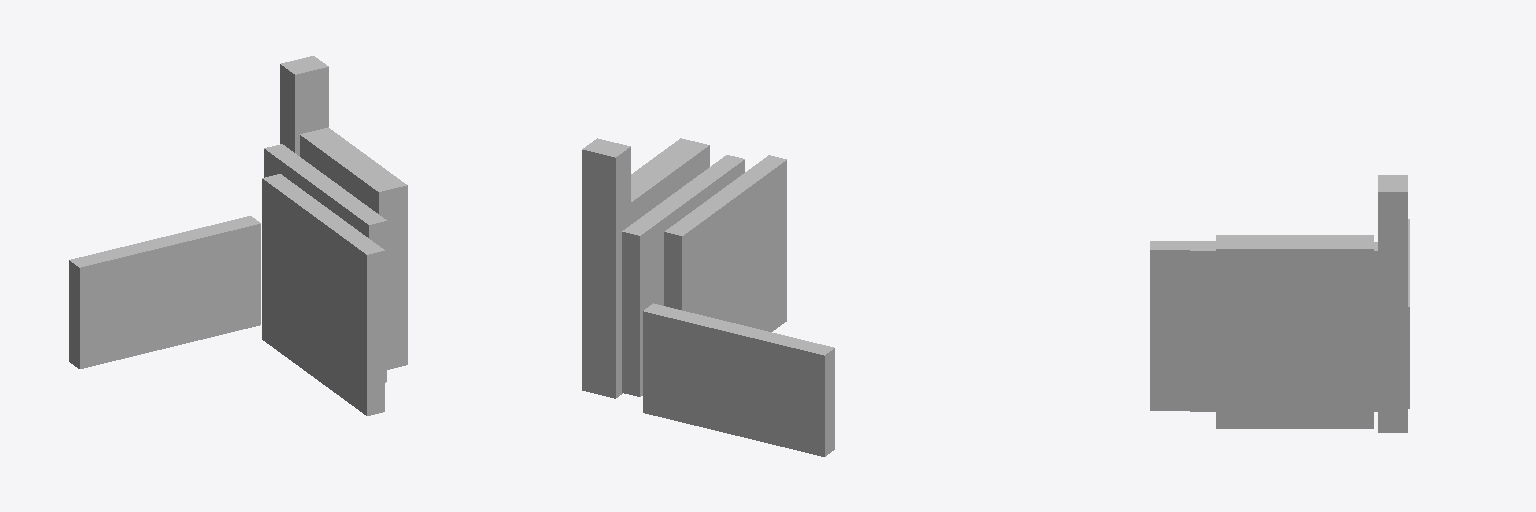
The model's file is TheAnswerSceneprops.obj.
3 renders of one model, left to right at view 1: azimuth 30°, elevation 25°; view 2: azimuth 150°, elevation 25°; view 3: azimuth 270°, elevation 25°, orthographic.
Visible parts, largest first — view 1: shipwheel2.001; view 2: shipwheel2.001; view 3: shipwheel2.001.
Part boxes in pixels (bbox=[...]): shipwheel2.001: bbox=[69, 56, 407, 415]; shipwheel2.001: bbox=[582, 138, 834, 456]; shipwheel2.001: bbox=[1150, 175, 1409, 432].
Size of the model in its own units: 3.68 by 3.57 by 3.41.